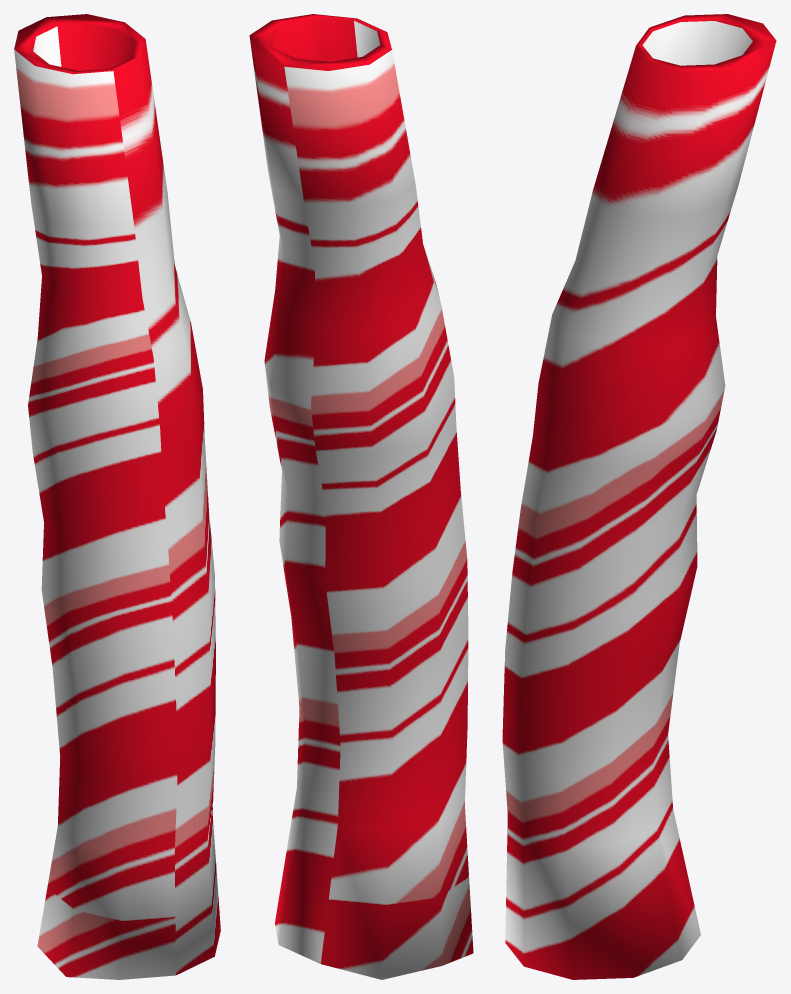
File: CandycaneTunnel.fbx
The picture shows the model from 3 angles, left to right: view 1: azimuth 30°, elevation 25°; view 2: azimuth 150°, elevation 25°; view 3: azimuth 270°, elevation 25°; orthographic projection. The views are drawn at different scales.
Parts seen in each view (by area): view 1: Cylinder.002; view 2: Cylinder.002; view 3: Cylinder.002.
Part boxes in pixels (<box>): Cylinder.002: <box>14,14,220,979</box>; Cylinder.002: <box>249,14,473,979</box>; Cylinder.002: <box>502,14,776,979</box>.
Bounding box in the file's own units: 205 × 1103 × 301.
